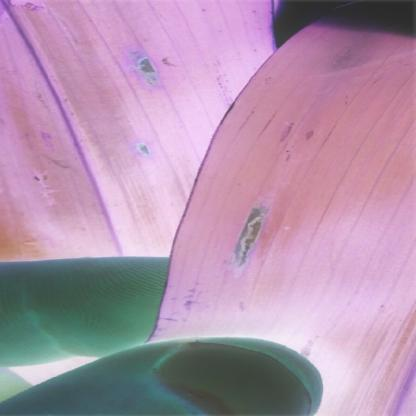corn gray leaf spot: (166, 6, 403, 326)
